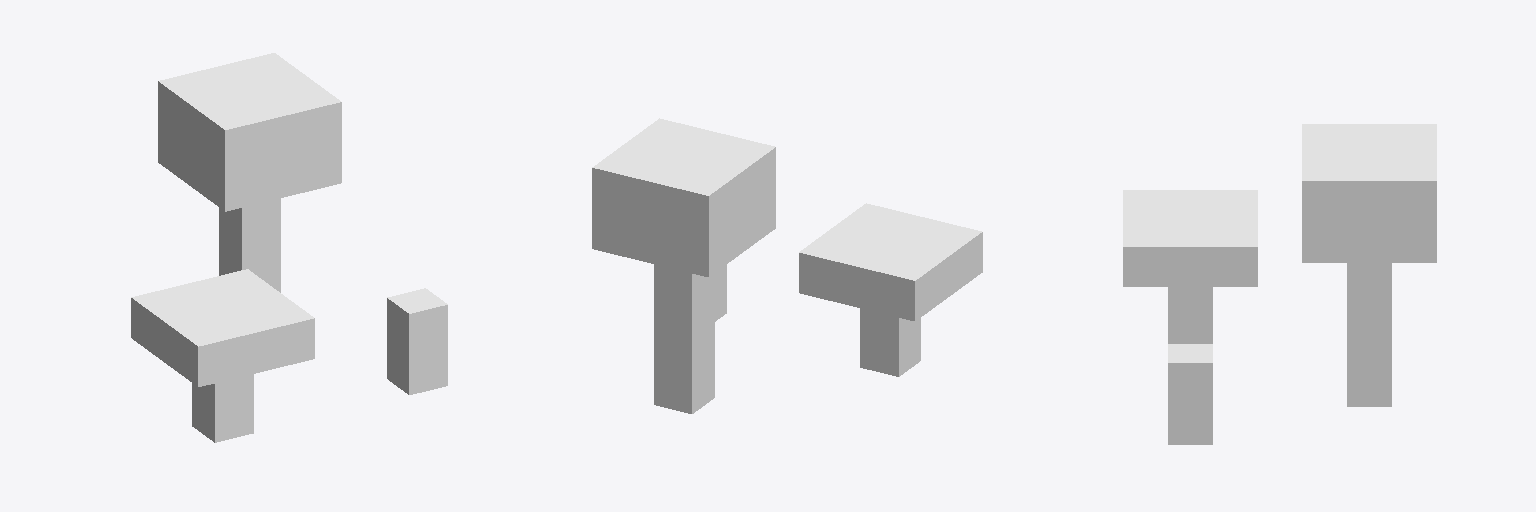
File: MushroomPatch_1.obj
3 renders of one model, left to right at view 1: azimuth 30°, elevation 25°; view 2: azimuth 150°, elevation 25°; view 3: azimuth 270°, elevation 25°, orthographic.
Parts seen in each view (by area): view 1: object 1; view 2: object 1; view 3: object 1.
Part boxes in pixels (x1,y1,x2,y2): object 1: (131,53,447,442); object 1: (592,118,982,413); object 1: (1123,124,1436,444).
Bounding box in the file's own units: 0.7 × 0.6 × 0.7.